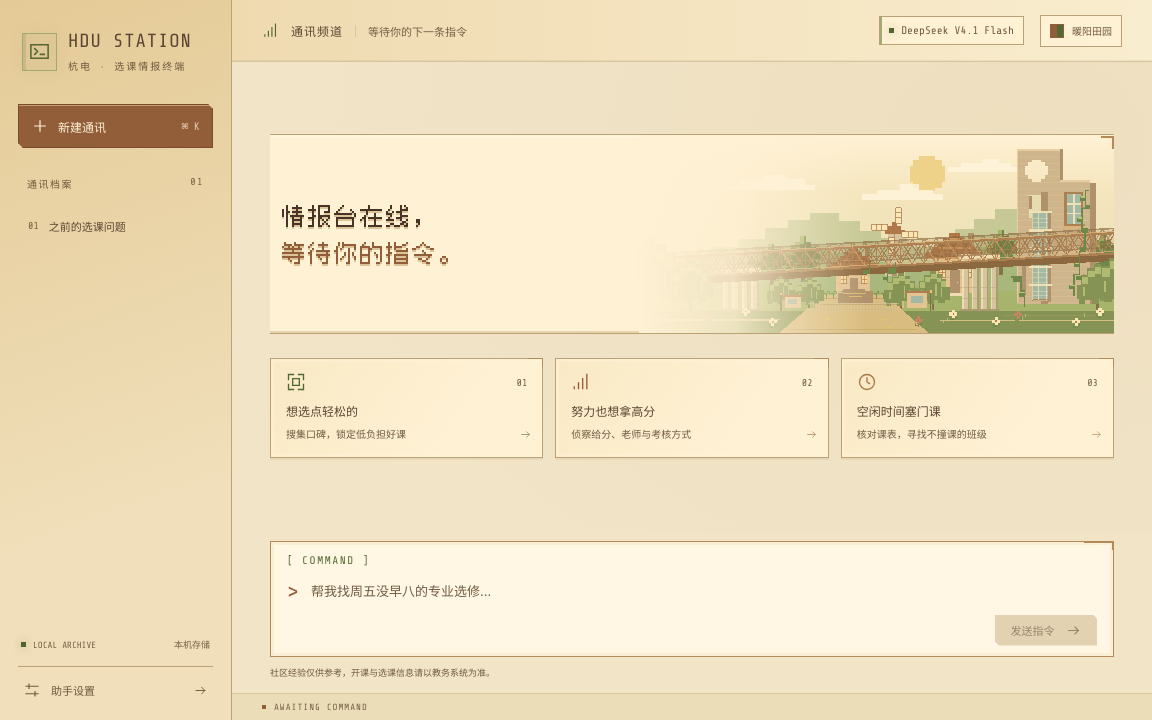
Test: course assistant › does not mix an old stream into another conversation after switching
This screenshot has width=1152, height=720.
Expected: the button "01 之前的选课问题" is shown, top-left (19, 206), bottom-right (212, 246)
Click the button "01 想选点轻松的 搜集口碑，锁定低负担好课": (322,412) top-left (270, 358), bottom-right (543, 458)
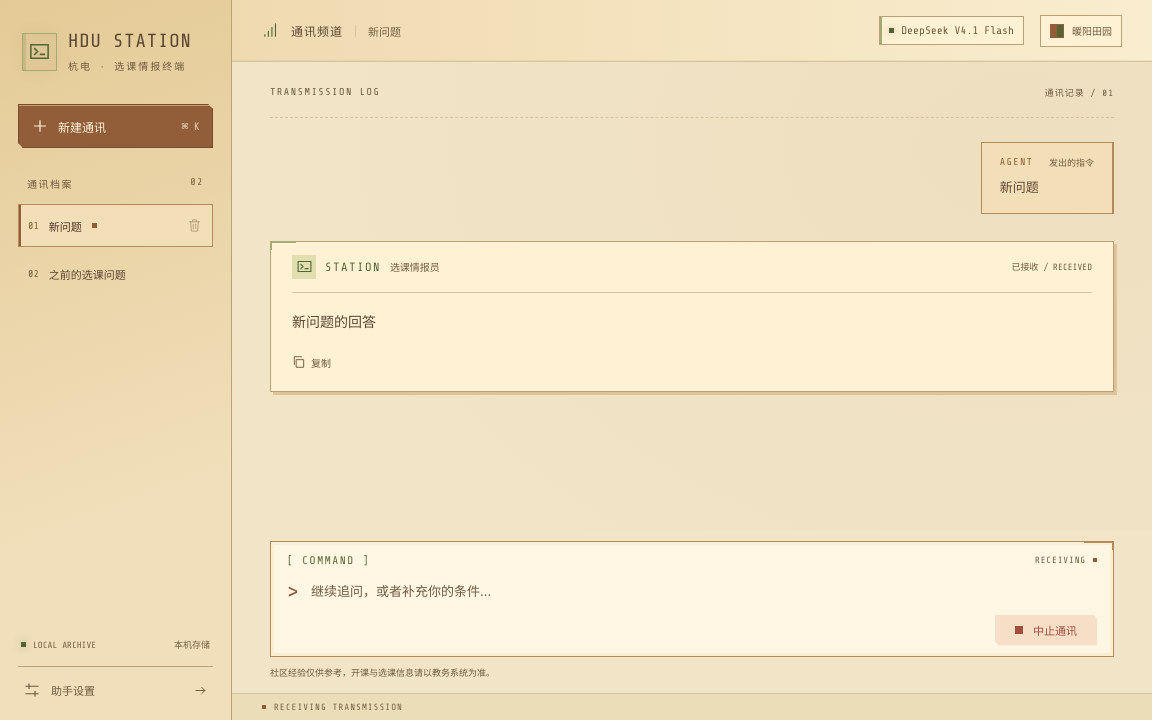
Click the button "02 之前的选课问题": (116,274) top-left (19, 254), bottom-right (212, 294)
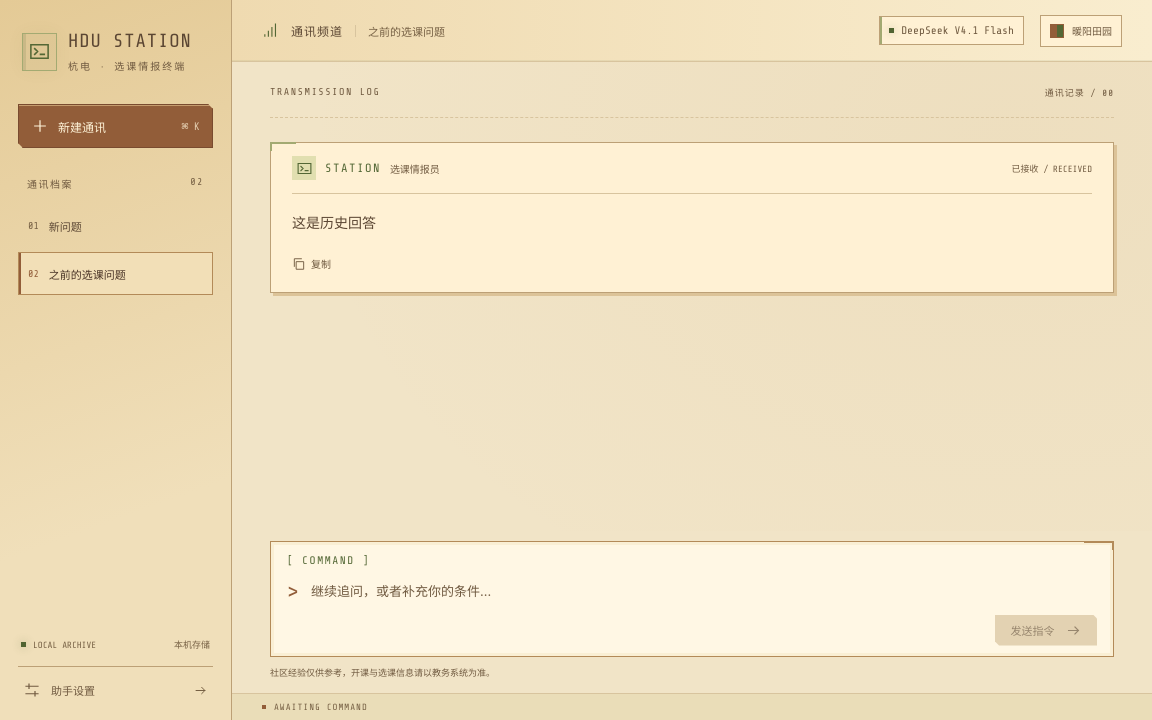
Now the text "这是历史回答" is shown, box top-left (292, 214), bottom-right (376, 231)
